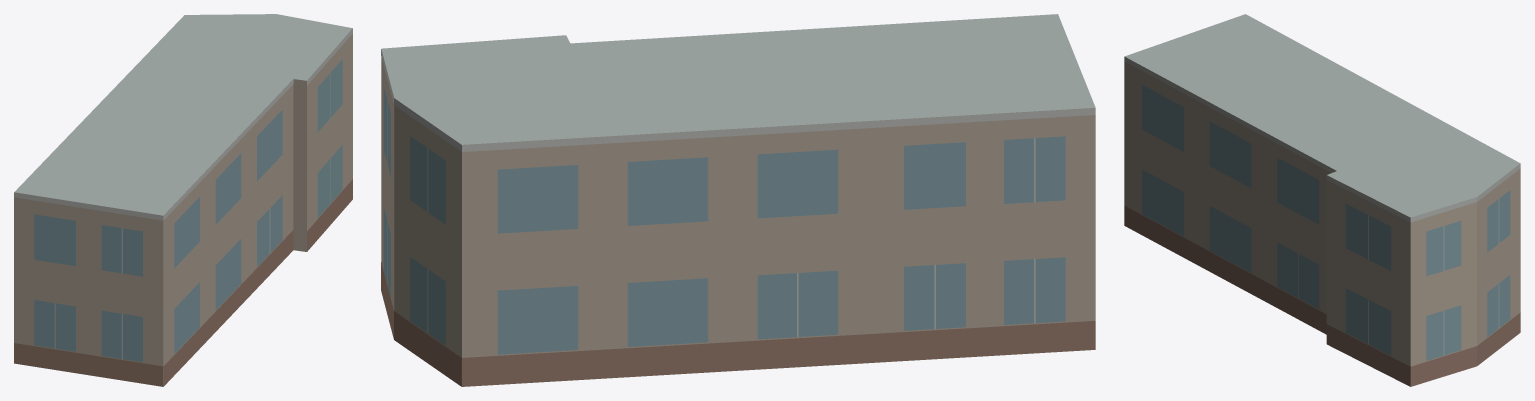
Rendered from survey-upis-32489921.glb.
The picture shows the model from 3 angles, left to right: view 1: azimuth 30°, elevation 25°; view 2: azimuth 150°, elevation 25°; view 3: azimuth 270°, elevation 25°; orthographic projection. The views are drawn at different scales.
Parts seen in each view (by area): view 1: survey-upis-32489921.tmp; view 2: survey-upis-32489921.tmp; view 3: survey-upis-32489921.tmp.
Part boxes in pixels (<box>): survey-upis-32489921.tmp: <box>14,14,352,386</box>; survey-upis-32489921.tmp: <box>381,14,1095,386</box>; survey-upis-32489921.tmp: <box>1124,14,1520,386</box>.
Size of the model in its own units: 21.42 by 8.3 by 17.62.
